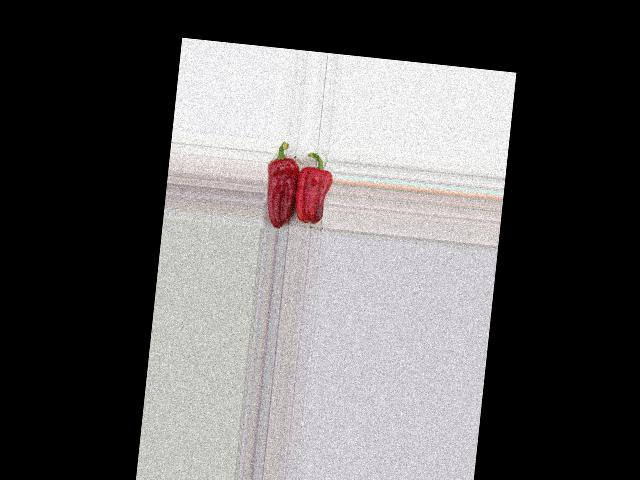bell_pepper: (262, 137, 303, 230)
